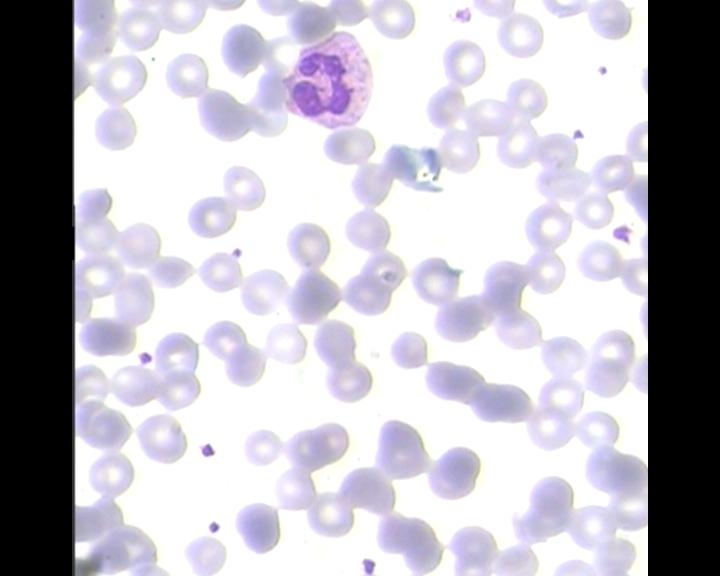neut: (276, 27, 379, 130)
